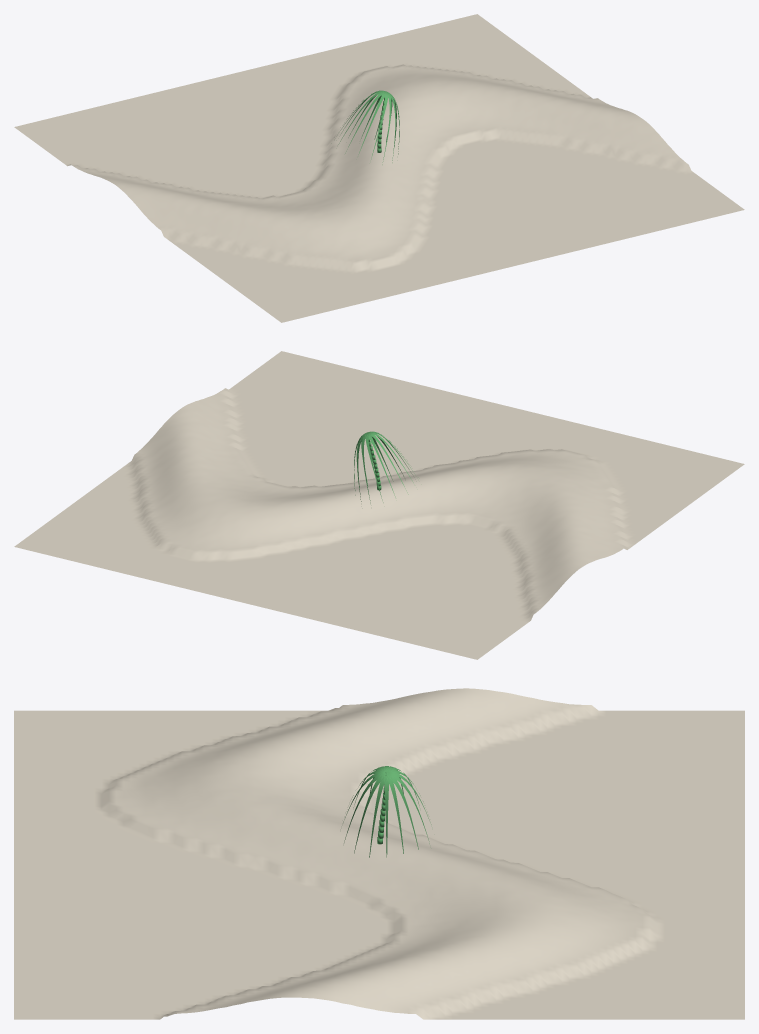
File: sandbar_palm_tree.fbx
3 views of the same model, one above another, from view 1: azimuth 30°, elevation 25°; view 2: azimuth 150°, elevation 25°; view 3: azimuth 270°, elevation 25° (orthographic). The views are drawn at different scales.
Parts seen in each view (by area): view 1: Curved_Sandbar_Terrain, Isolated_Palm_Tree; view 2: Curved_Sandbar_Terrain, Isolated_Palm_Tree; view 3: Curved_Sandbar_Terrain, Isolated_Palm_Tree.
Part boxes in pixels (x1,y1,x2,y2): Curved_Sandbar_Terrain: (14, 14, 744, 322); Isolated_Palm_Tree: (338, 90, 399, 164); Curved_Sandbar_Terrain: (14, 351, 744, 659); Isolated_Palm_Tree: (354, 431, 414, 503); Curved_Sandbar_Terrain: (14, 688, 744, 1019); Isolated_Palm_Tree: (343, 766, 431, 857).
Size of what is drawn, in the model's own units: 6000 by 907 by 6000.
